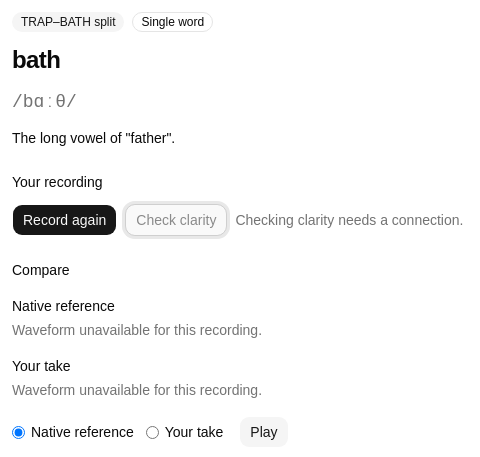
Test: offline › disables checking clarity while offline, saying why, and re-enables it on reconnect
Click the button "Check clarity": (176, 220) [125,204,227,236]
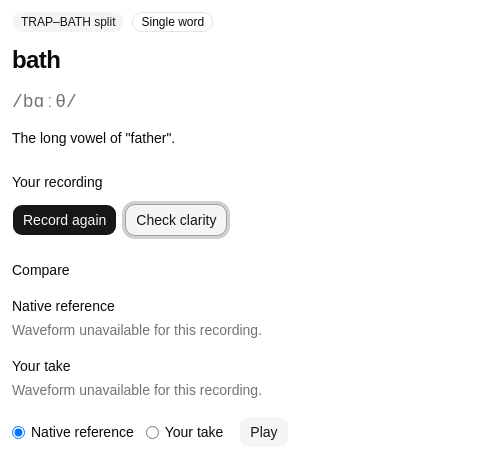
Result: the text "Checking clarity needs a connection." is gone
